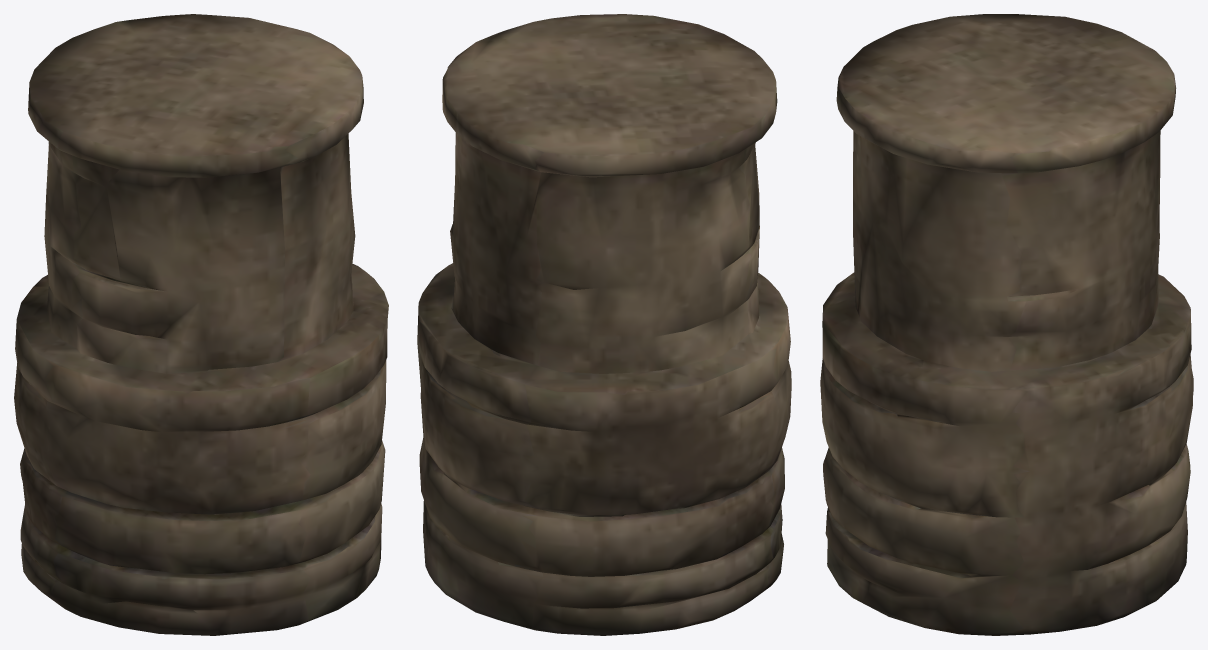
Rendered from weathered-wood-well-v001.glb.
3 renders of one model, left to right at view 1: azimuth 30°, elevation 25°; view 2: azimuth 150°, elevation 25°; view 3: azimuth 270°, elevation 25°, orthographic.
Parts seen in each view (by area): view 1: weathered-wood-well; view 2: weathered-wood-well; view 3: weathered-wood-well.
Part boxes in pixels (<box>): weathered-wood-well: <box>14,14,388,635</box>; weathered-wood-well: <box>417,14,791,635</box>; weathered-wood-well: <box>820,14,1193,635</box>.
Bounding box in the file's own units: 0.7549 × 1.07 × 0.7479.
Materials: 1 (1 with a texture image).
